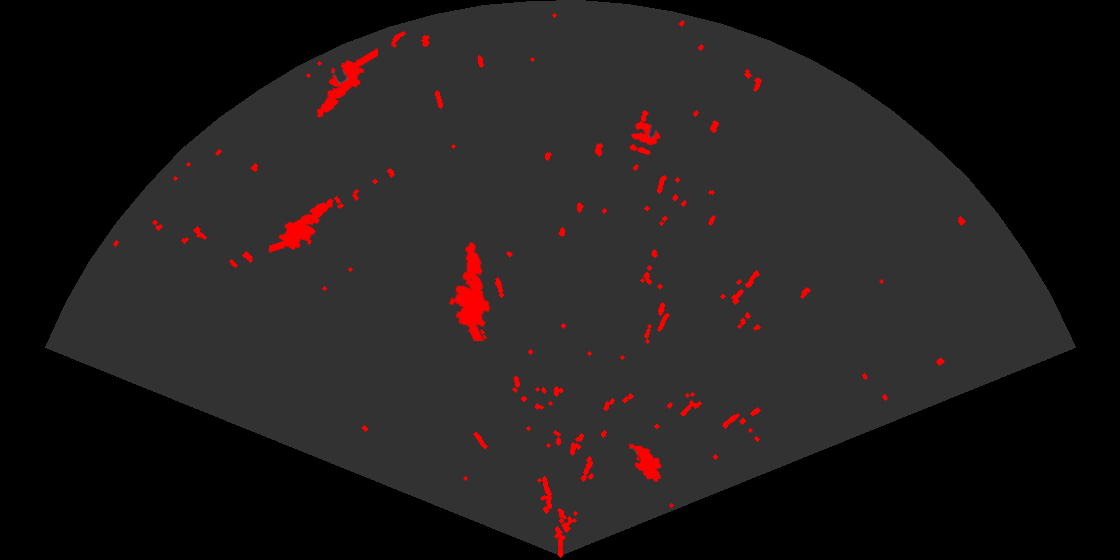AUV: (627, 442, 663, 484)
ball: (628, 120, 662, 157)
frogman: (447, 240, 492, 341), (315, 48, 378, 119), (269, 197, 335, 254)
